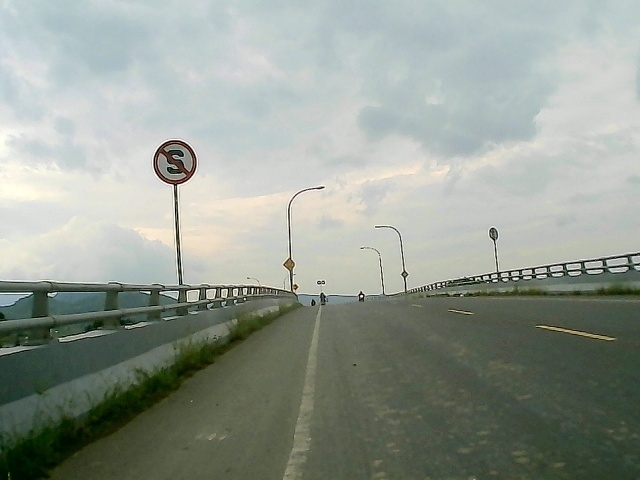Dilarang berhenti: (148, 139, 201, 187)
